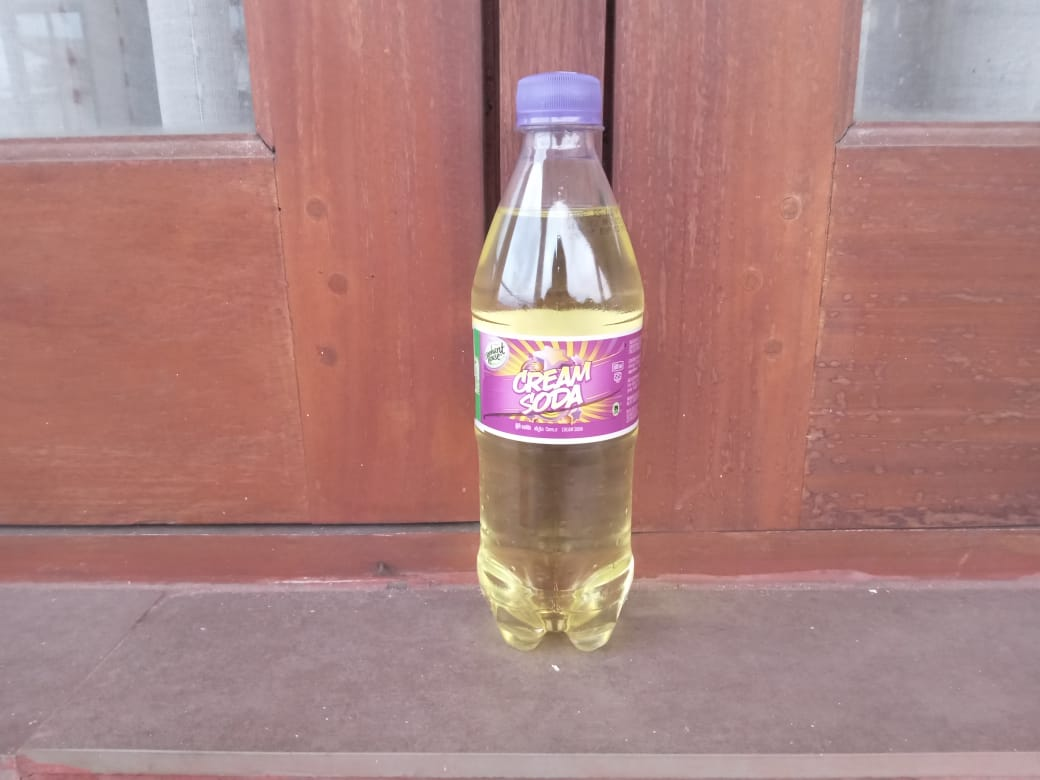S: (465, 68, 647, 668)
